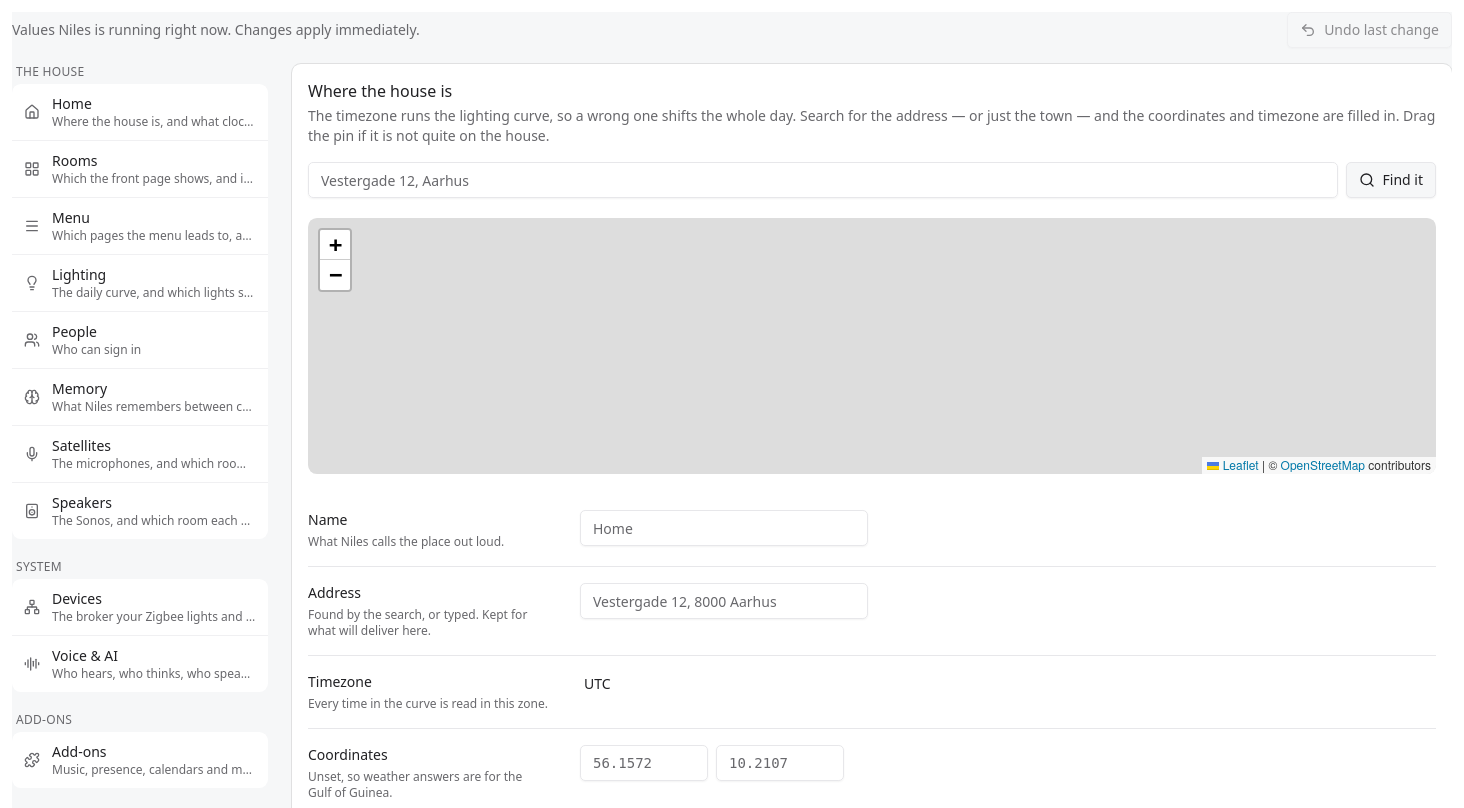
Test: ConfigPanel, the settings that left the ConfigMap › says Piper only changes after a restart, and the language does not
Click the button "Voice & AI". click: [140, 664]
box: [12,636,268,692]
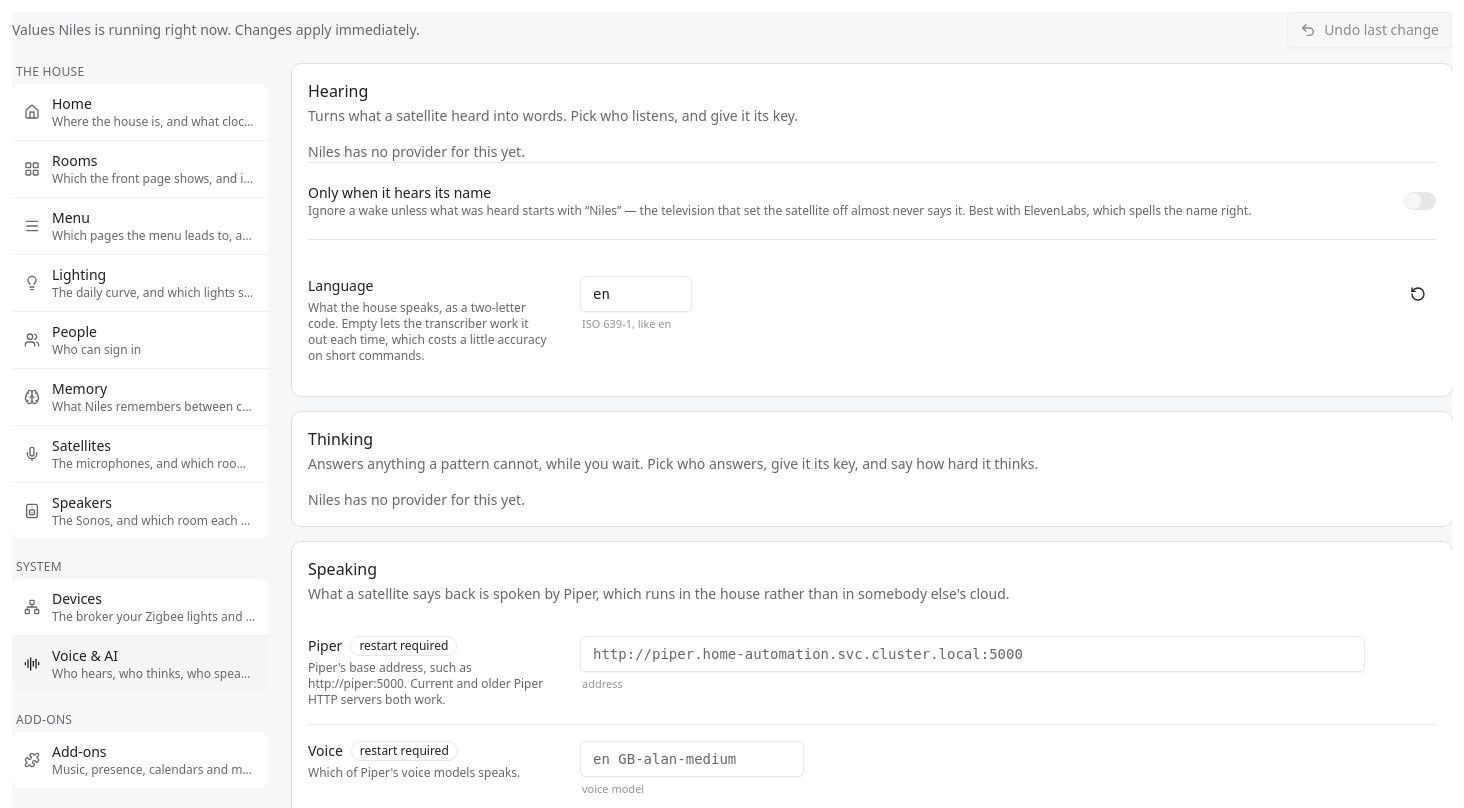
Now the field named "Piper address" is shown, box [580,636,1365,672]
Now the 1st text "restart required" is shown, box [350,636,457,656]
